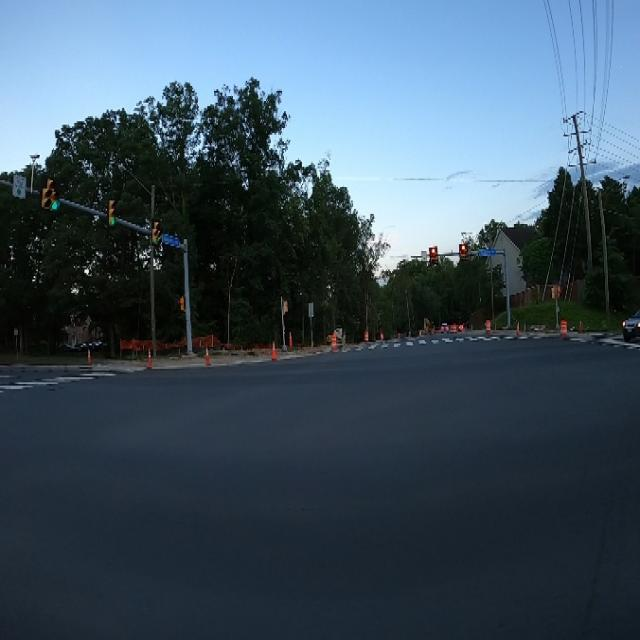cars: (622, 305, 640, 343), (438, 323, 451, 336)
